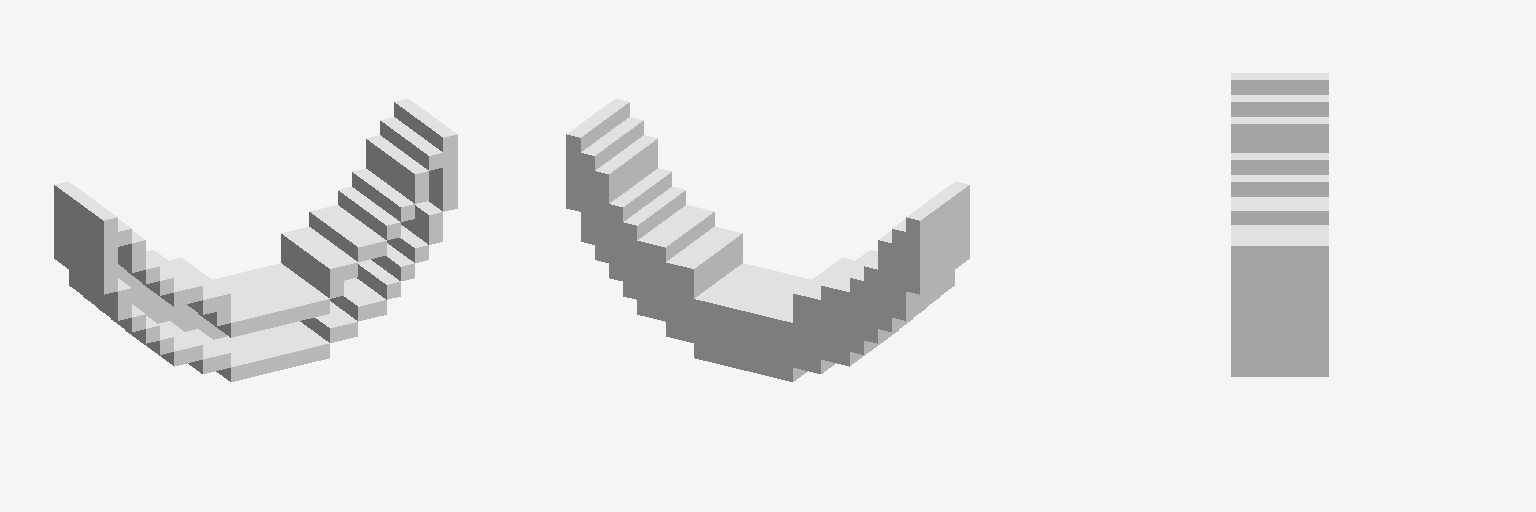
Rendered from slimemouth.obj.
The picture shows the model from 3 angles: view 1: azimuth 30°, elevation 25°; view 2: azimuth 150°, elevation 25°; view 3: azimuth 270°, elevation 25°; orthographic projection.
Parts seen in each view (by area): view 1: object 1; view 2: object 1; view 3: object 1.
Boxes of the visible parts, box(x1,y1,x2,y2) form: object 1: box(54, 99, 457, 381); object 1: box(566, 99, 969, 381); object 1: box(1231, 73, 1328, 376).
Size of the model in its own units: 2.5 by 1.3 by 0.6.